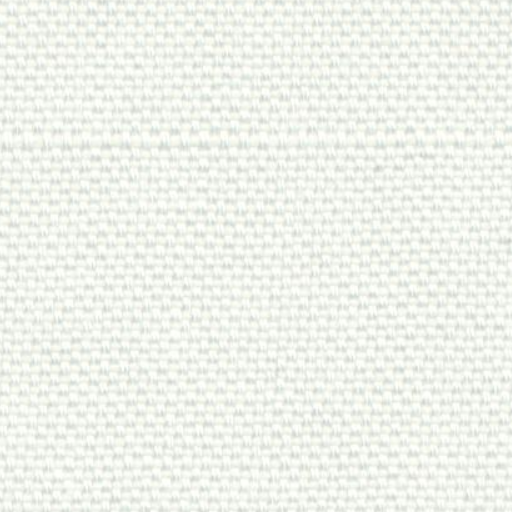TuoSha: (8, 103, 492, 188)
